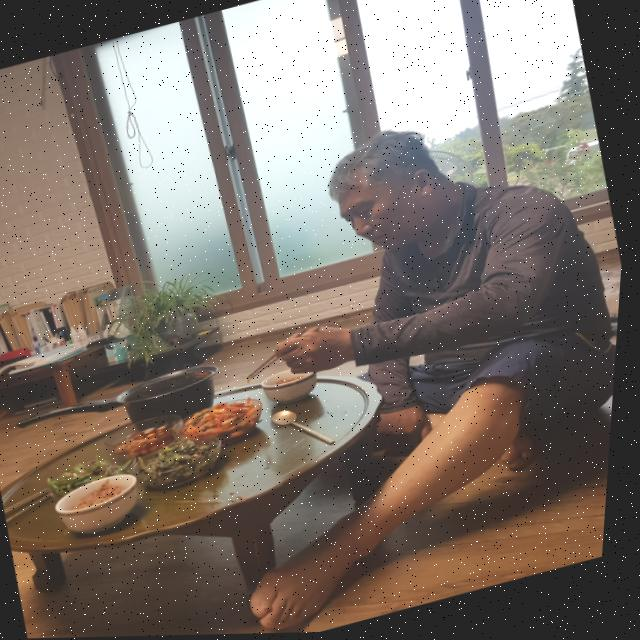eating-person: (112, 62, 636, 637)
